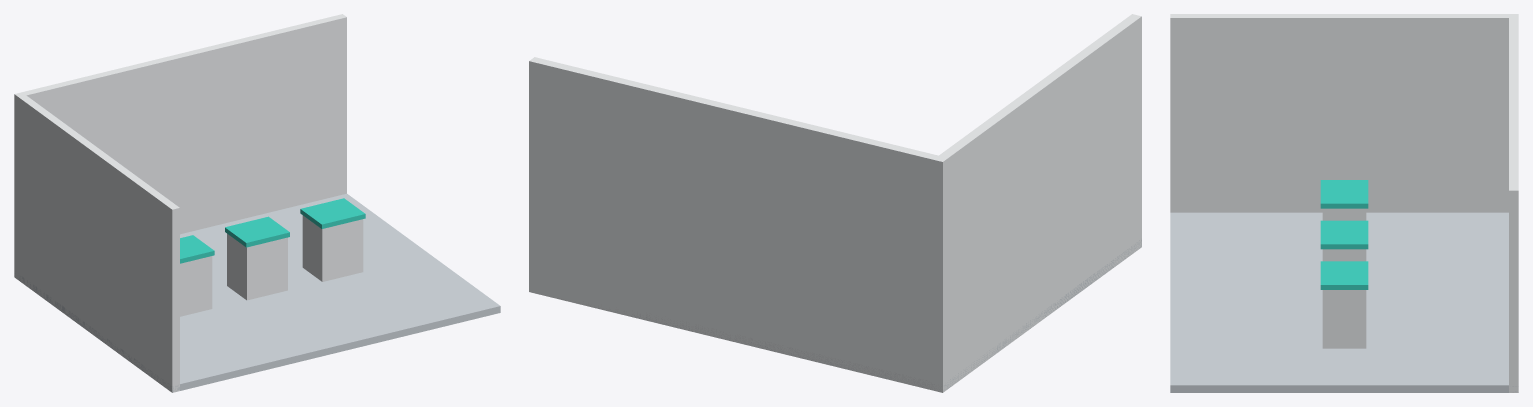
3 renders of one model, left to right at view 1: azimuth 30°, elevation 25°; view 2: azimuth 150°, elevation 25°; view 3: azimuth 270°, elevation 25°, orthographic. The views are drawn at different scales.
Visible parts, largest first — view 1: Exhibition Booth Concept; view 2: Exhibition Booth Concept; view 3: Exhibition Booth Concept.
Boxes of the visible parts, left/top/right/bottom form: Exhibition Booth Concept: left=14, top=14, right=500, bottom=392; Exhibition Booth Concept: left=529, top=14, right=1141, bottom=392; Exhibition Booth Concept: left=1170, top=14, right=1518, bottom=392.
Bounding box in the file's own units: 6 × 3.2 × 5.
